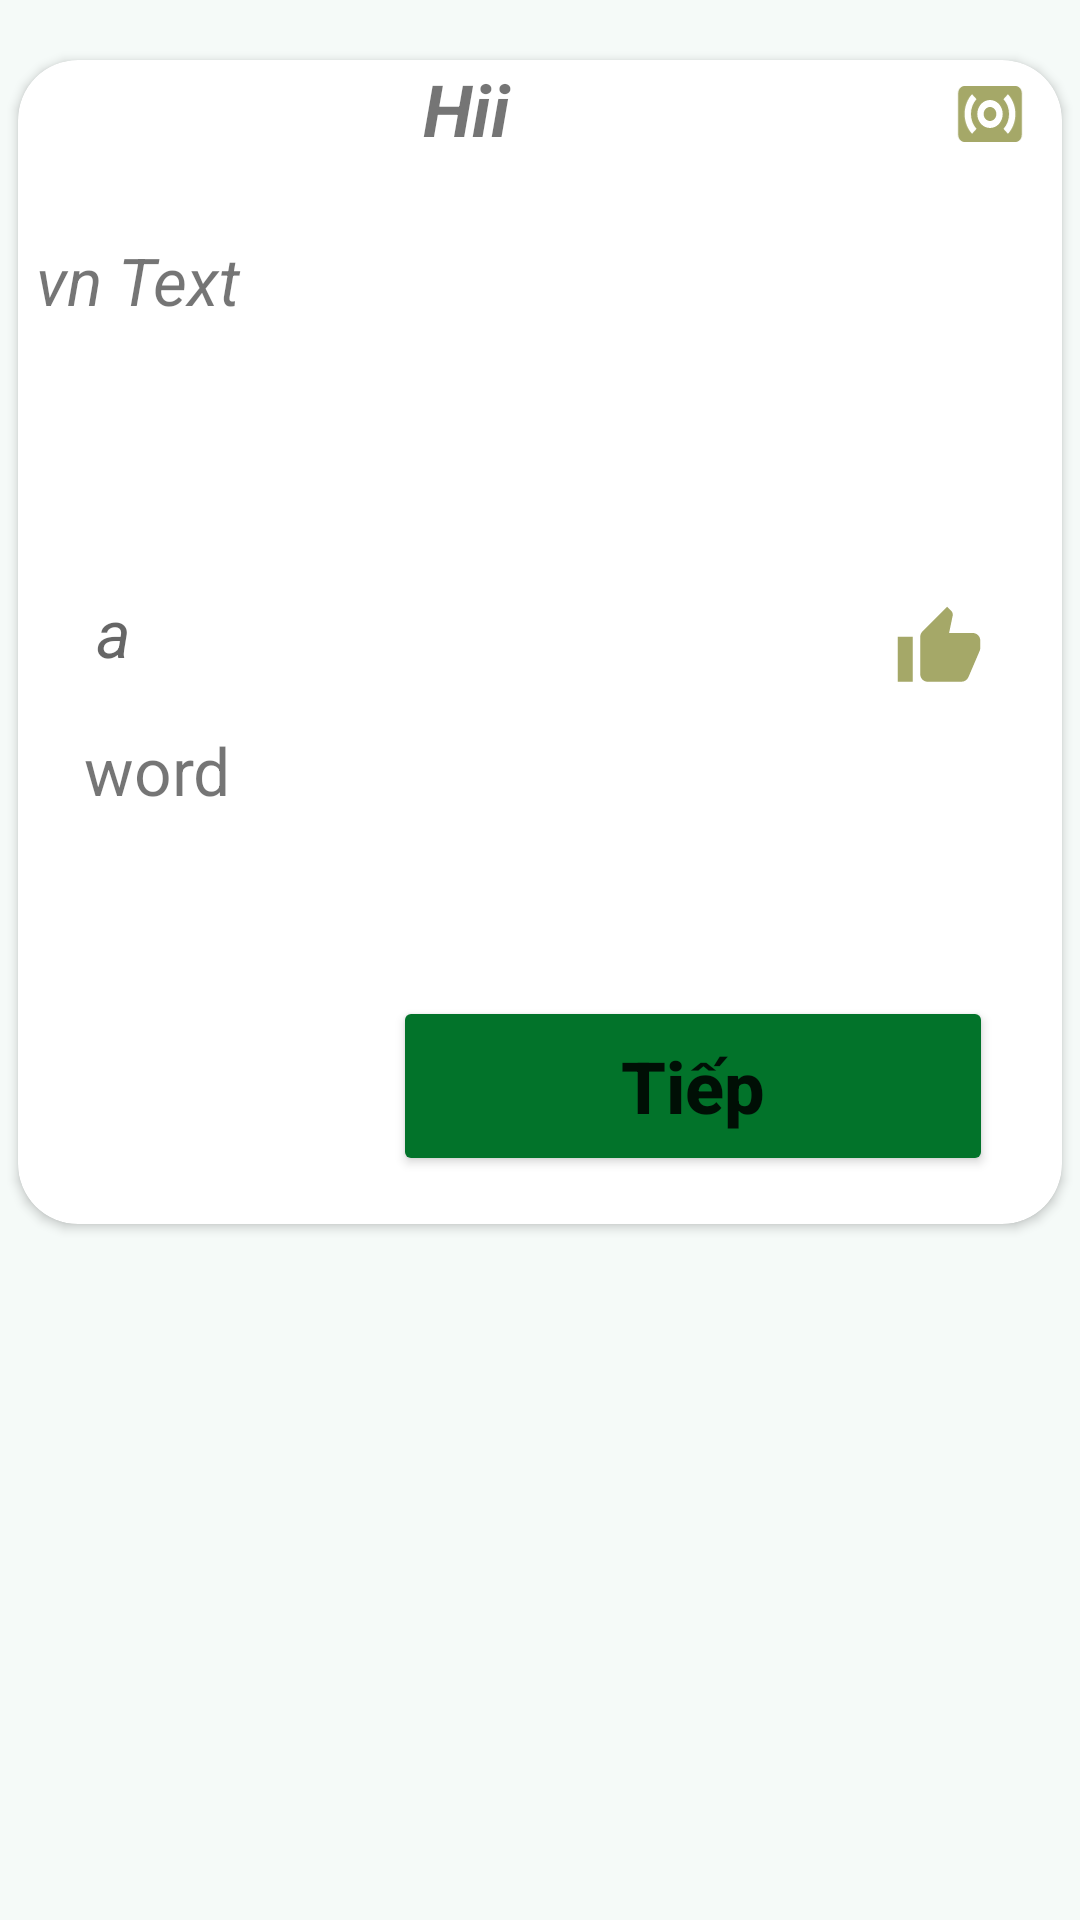

Icon click points for this 1080w x 1920h phone screenshot, format (x=x, y=y):
favourite disable: (x=939, y=644)
sound disable: (x=990, y=114)
